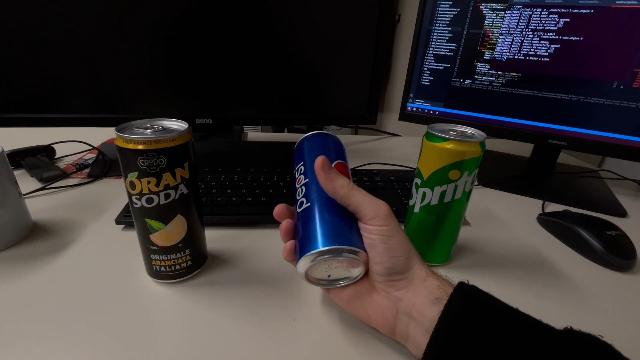OranSoda: (113, 116, 210, 286)
Pepsi: (290, 129, 370, 289)
Sprite: (400, 122, 490, 268)
